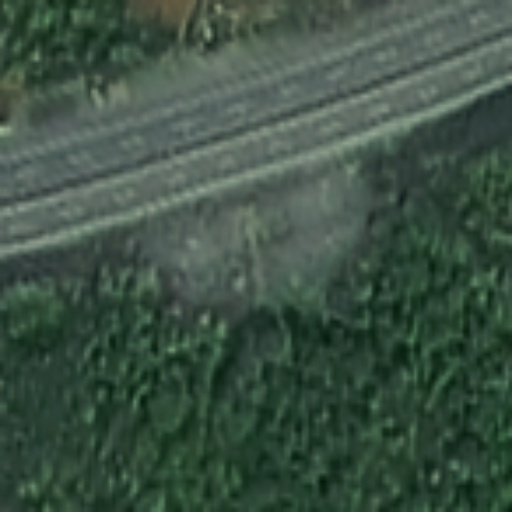landslide: (132, 190, 376, 304)
